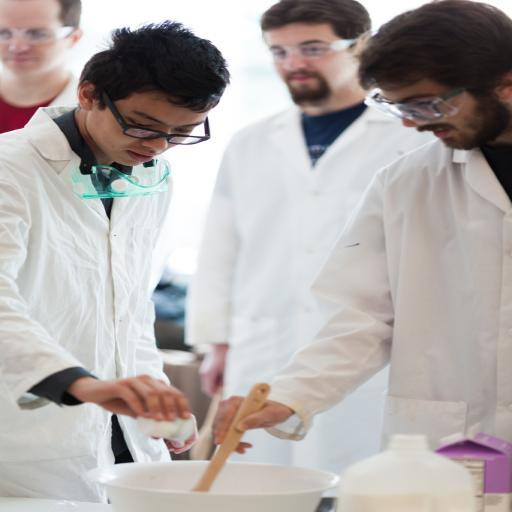Person: (292, 1, 442, 504), (85, 31, 235, 501), (203, 2, 353, 472)
goggles: (326, 93, 398, 127), (259, 36, 326, 59), (84, 25, 138, 50)
no_gloves: (219, 378, 283, 448), (144, 362, 208, 431)
no_goggle: (151, 103, 230, 150)
no_helmet: (340, 2, 423, 88), (152, 27, 234, 113), (253, 0, 336, 28), (85, 0, 143, 23)
none: (227, 129, 350, 428), (307, 158, 429, 458), (85, 155, 207, 454)
